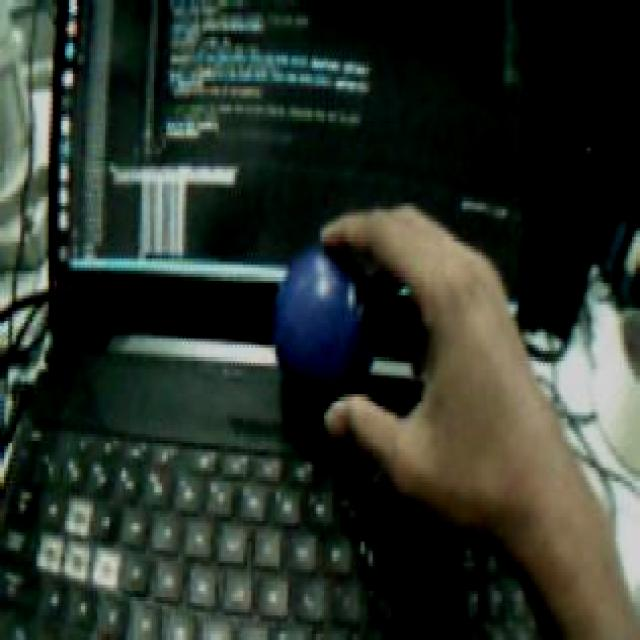BallPurple: (271, 249, 376, 401)
